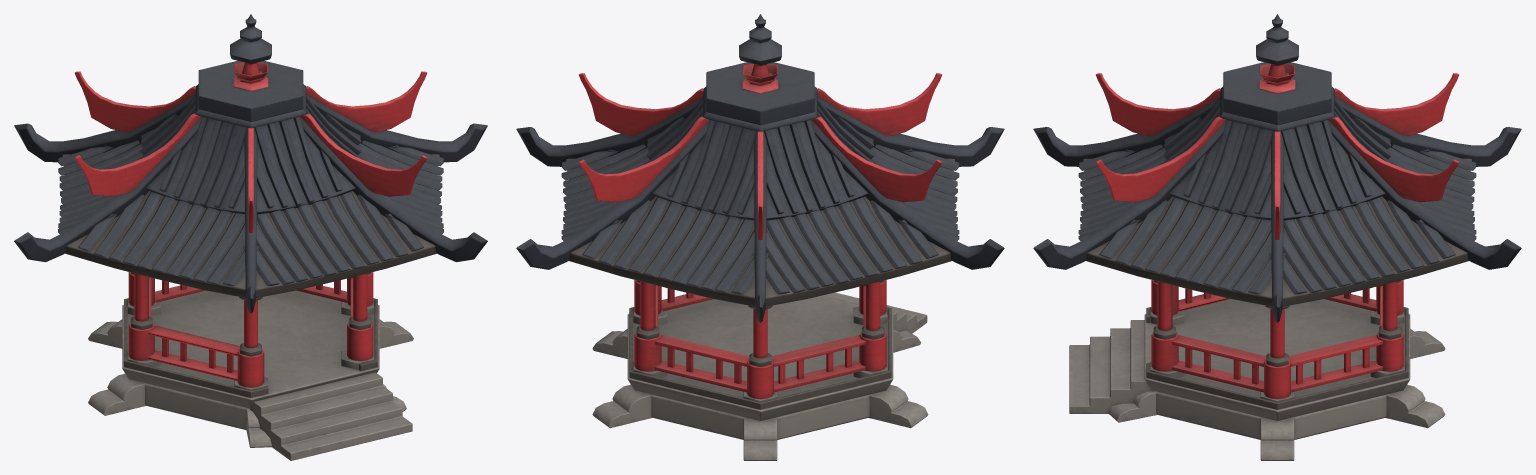
Rendered from pavilion_6.fbx.
3 renders of one model, left to right at view 1: azimuth 30°, elevation 25°; view 2: azimuth 150°, elevation 25°; view 3: azimuth 270°, elevation 25°, orthographic. The views are drawn at different scales.
Visible parts, largest first — view 1: liangting_6; view 2: liangting_6; view 3: liangting_6.
Boxes of the visible parts, x1,y1,x2,y2 form: liangting_6: [14, 14, 487, 460]; liangting_6: [516, 14, 1004, 460]; liangting_6: [1033, 14, 1521, 460].
Size of the model in its own units: 111 by 79.89 by 95.7.
